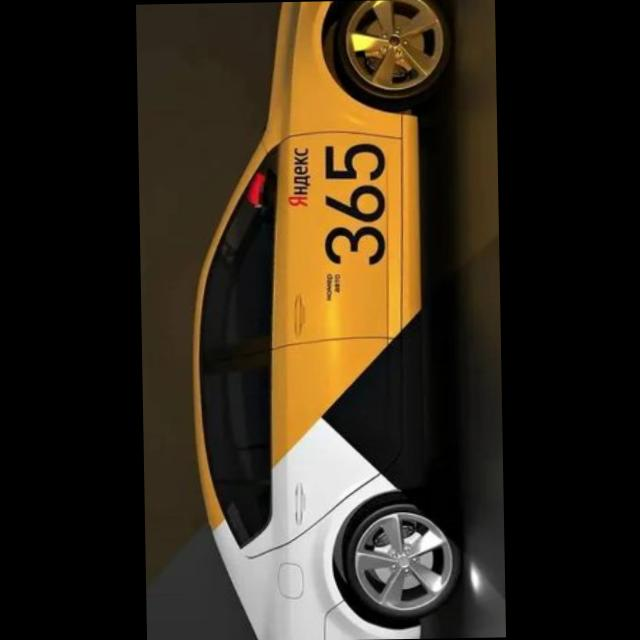taxi: (183, 1, 464, 640)
